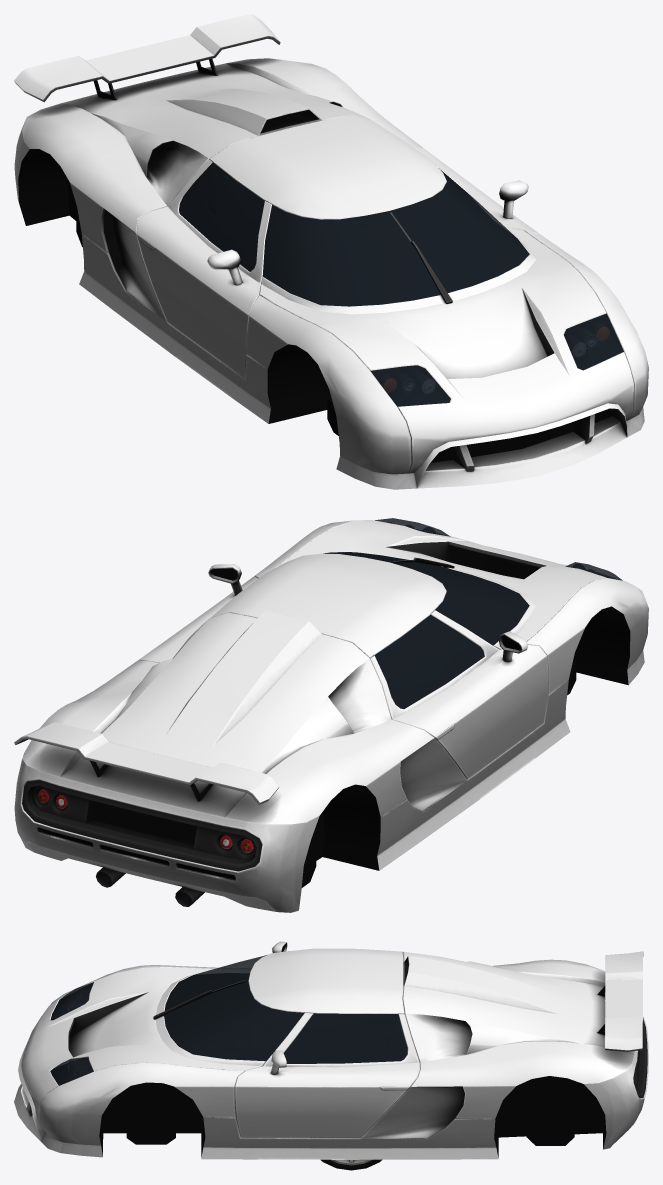
File: sport.glb
3 renders of one model, top to bottom at view 1: azimuth 30°, elevation 25°; view 2: azimuth 150°, elevation 25°; view 3: azimuth 270°, elevation 25°, orthographic. The views are drawn at different scales.
Visible parts, largest first — view 1: paint, glass; view 2: paint, glass; view 3: paint, glass, wheel0.
Boxes of the visible parts, x1,y1,x2,y2 form: paint: (14, 14, 648, 489); glass: (179, 162, 623, 406); paint: (14, 520, 648, 912); glass: (323, 518, 622, 708); paint: (14, 941, 648, 1159); glass: (50, 955, 407, 1085); wheel0: (320, 1159, 382, 1170).
Bounding box in the file's own units: 1.77 × 1.36 × 3.91.
Materials: 5 (4 with a texture image).
